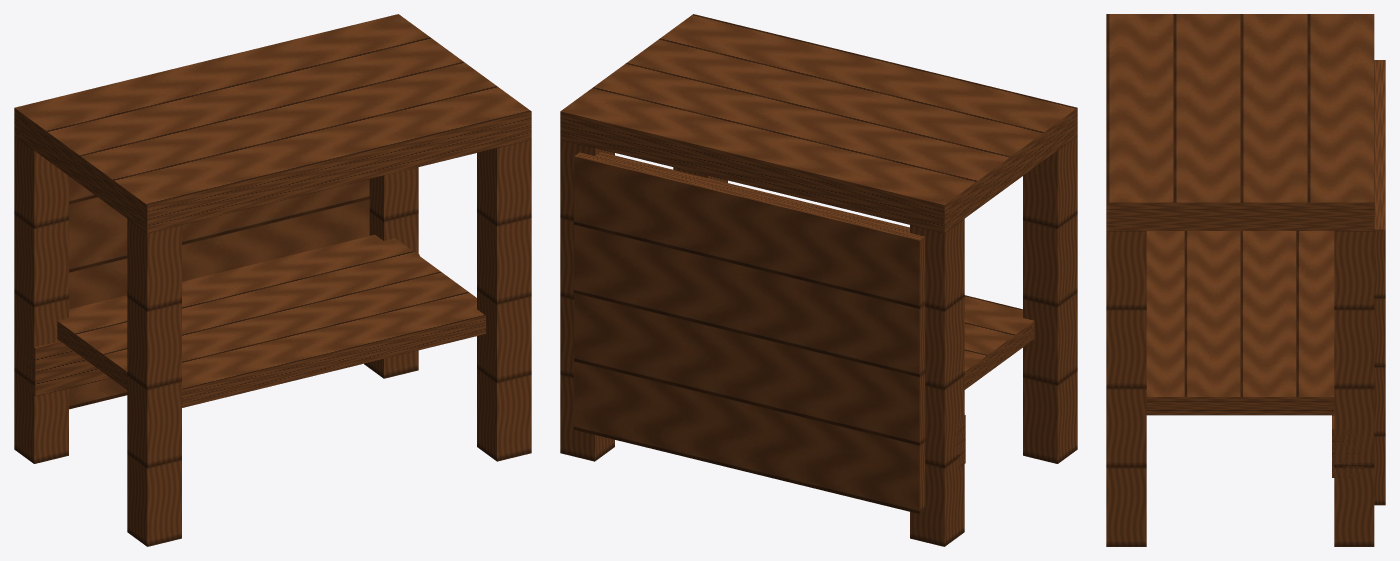
File: suburban-outbreak-interiors-kitchen-sink-base-756f4dd7__19902.glb
3 renders of one model, left to right at view 1: azimuth 30°, elevation 25°; view 2: azimuth 150°, elevation 25°; view 3: azimuth 270°, elevation 25°, orthographic.
Visible parts, largest first — view 1: kitchen-sink-base; view 2: kitchen-sink-base; view 3: kitchen-sink-base.
Boxes of the visible parts, left/top/right/bottom form: kitchen-sink-base: left=14, top=14, right=531, bottom=546; kitchen-sink-base: left=560, top=14, right=1077, bottom=546; kitchen-sink-base: left=1106, top=14, right=1385, bottom=546.
Bounding box in the file's own units: 1 × 0.85 × 0.625.
1 material, 1 textured.
